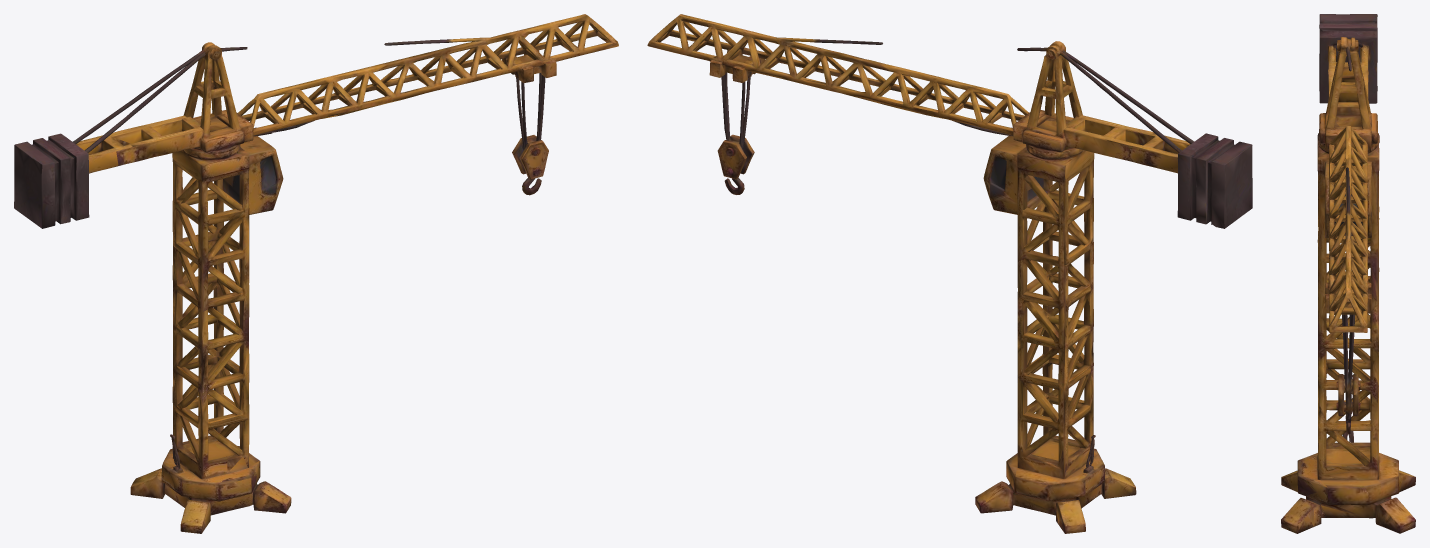
Rendered from crane_tower_idle.glb.
The picture shows the model from 3 angles, left to right: view 1: azimuth 30°, elevation 25°; view 2: azimuth 150°, elevation 25°; view 3: azimuth 270°, elevation 25°; orthographic projection. The views are drawn at different scales.
Visible parts, largest first — view 1: tripo_node_f8bf86bc-fc8c-41f5-a944-852c3b80a3fc; view 2: tripo_node_f8bf86bc-fc8c-41f5-a944-852c3b80a3fc; view 3: tripo_node_f8bf86bc-fc8c-41f5-a944-852c3b80a3fc.
Boxes of the visible parts, bbox=[...] form: tripo_node_f8bf86bc-fc8c-41f5-a944-852c3b80a3fc: bbox=[14, 14, 618, 533]; tripo_node_f8bf86bc-fc8c-41f5-a944-852c3b80a3fc: bbox=[647, 14, 1252, 533]; tripo_node_f8bf86bc-fc8c-41f5-a944-852c3b80a3fc: bbox=[1281, 14, 1415, 533].
Bounding box in the file's own units: 33.37 × 25 × 6.51.
Materials: 1 (1 with a texture image).
